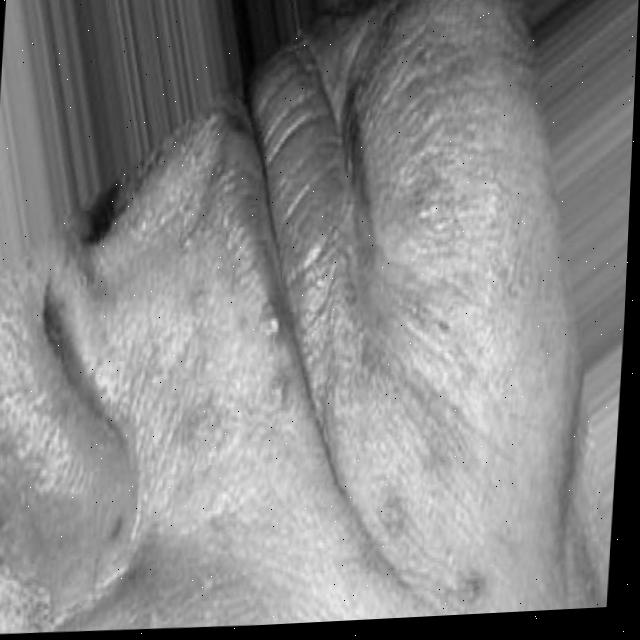Rosacea: (385, 0, 491, 212), (171, 379, 221, 447)
